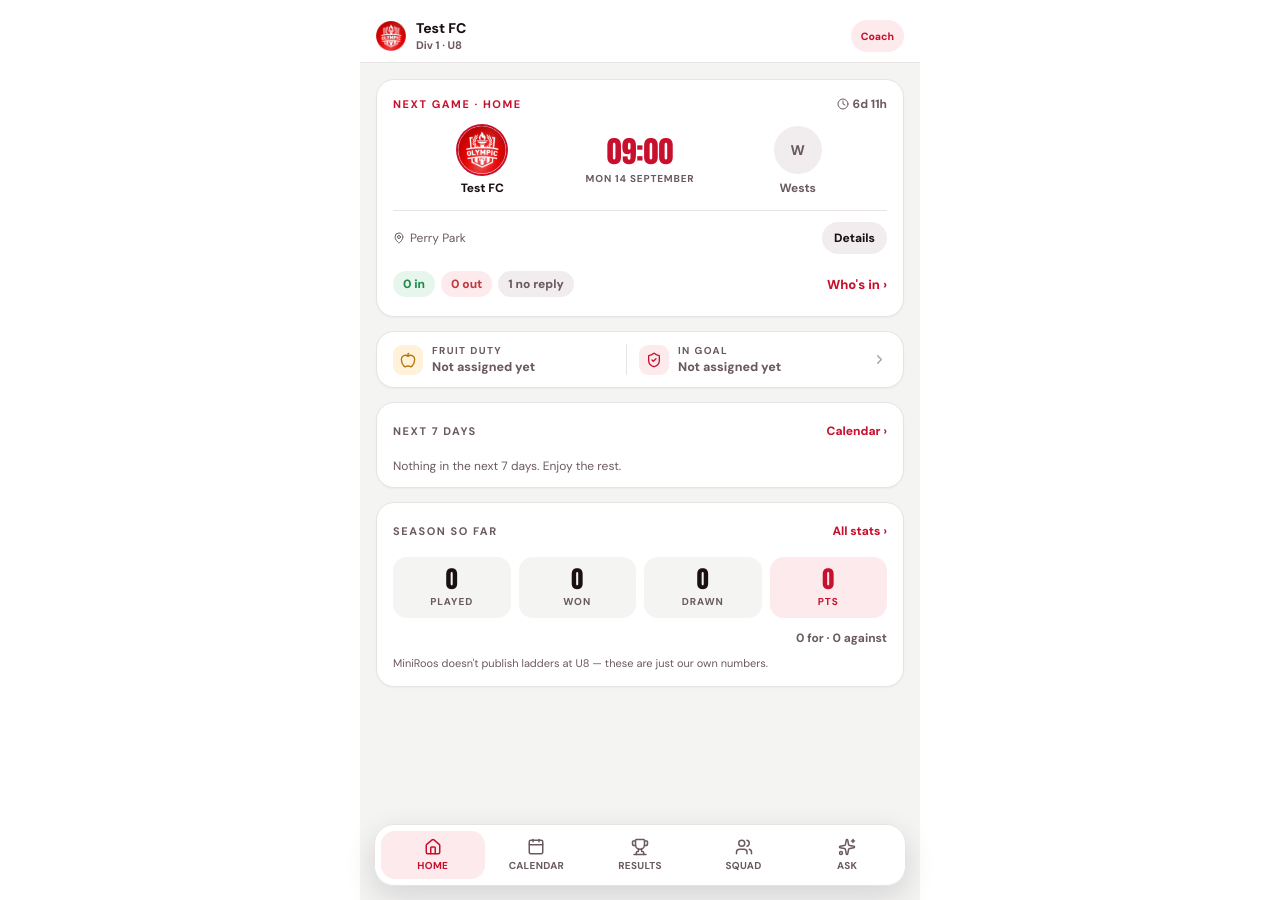
Test case: App — account-mode roles (/api/me) › admins see Create a team and a Club admin link in the sheet, plus Sign out
Click the button with aria-label "Viewing as": (877, 36) 851,20 -> 904,52
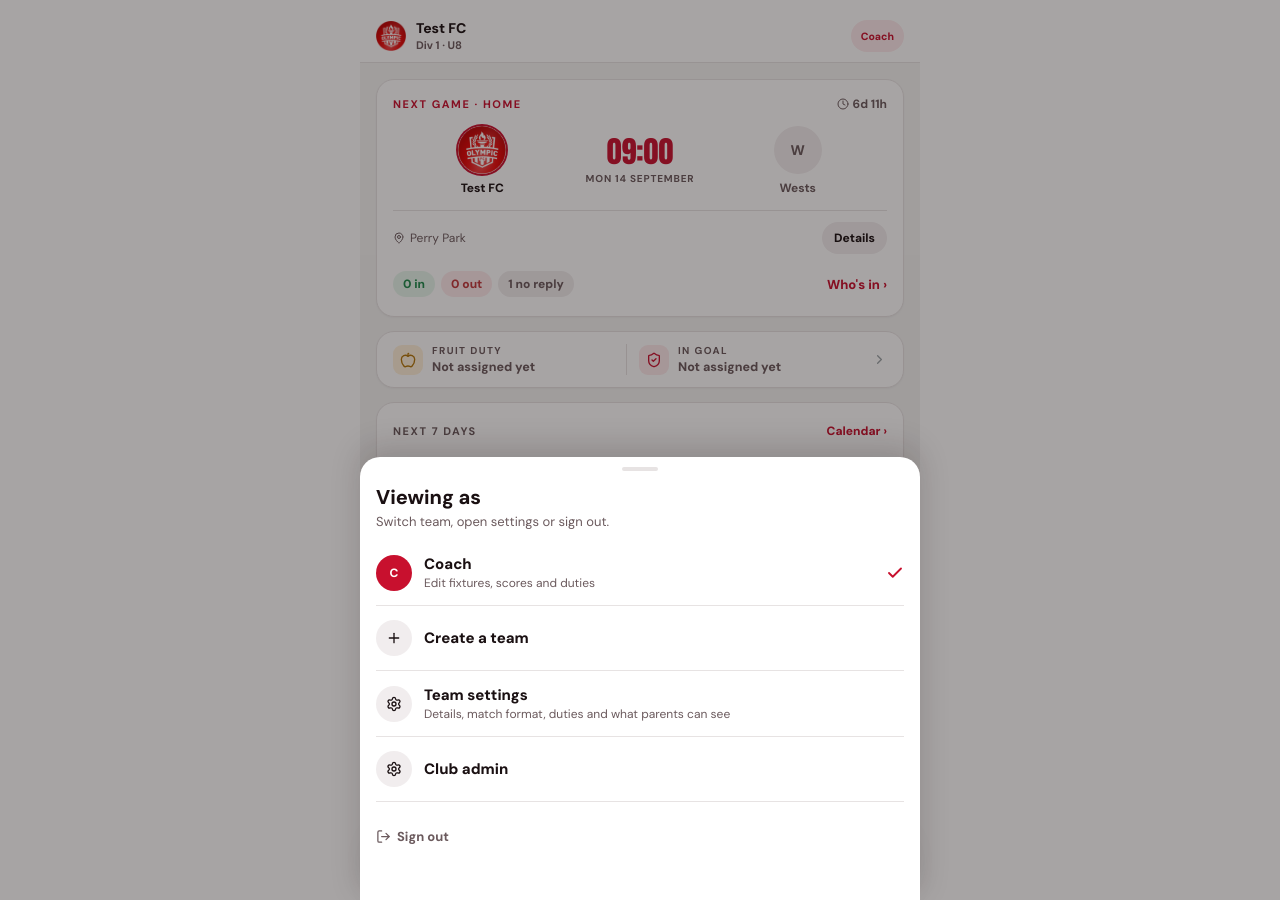
Expected: the element with class "head" does not show "Club admin"
Now the element "Create a team" is shown, box 376,540 -> 904,802
Now the element "sign out" is shown, box 360,457 -> 920,899
